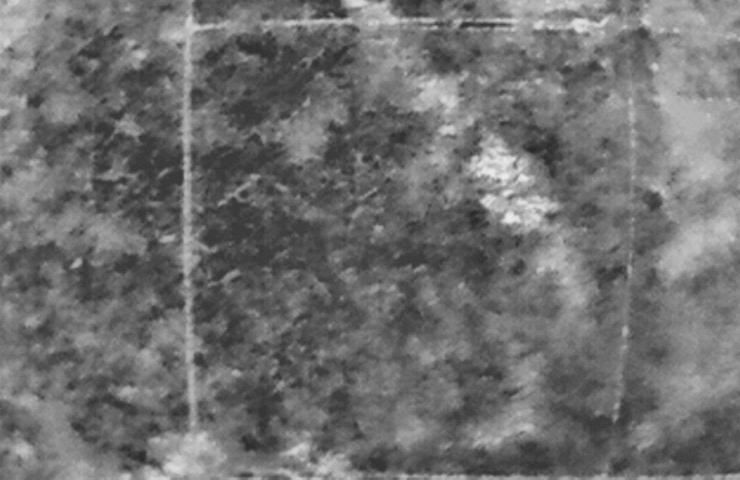landmines: (469, 148, 534, 188)
